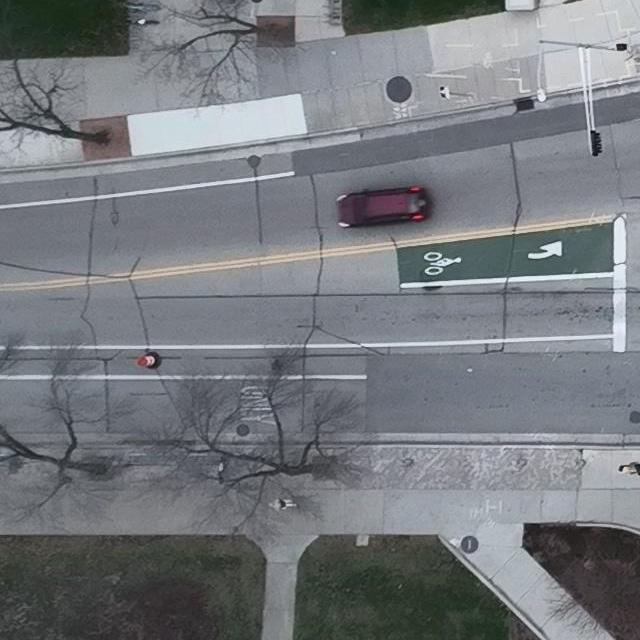car: (336, 185, 433, 228)
